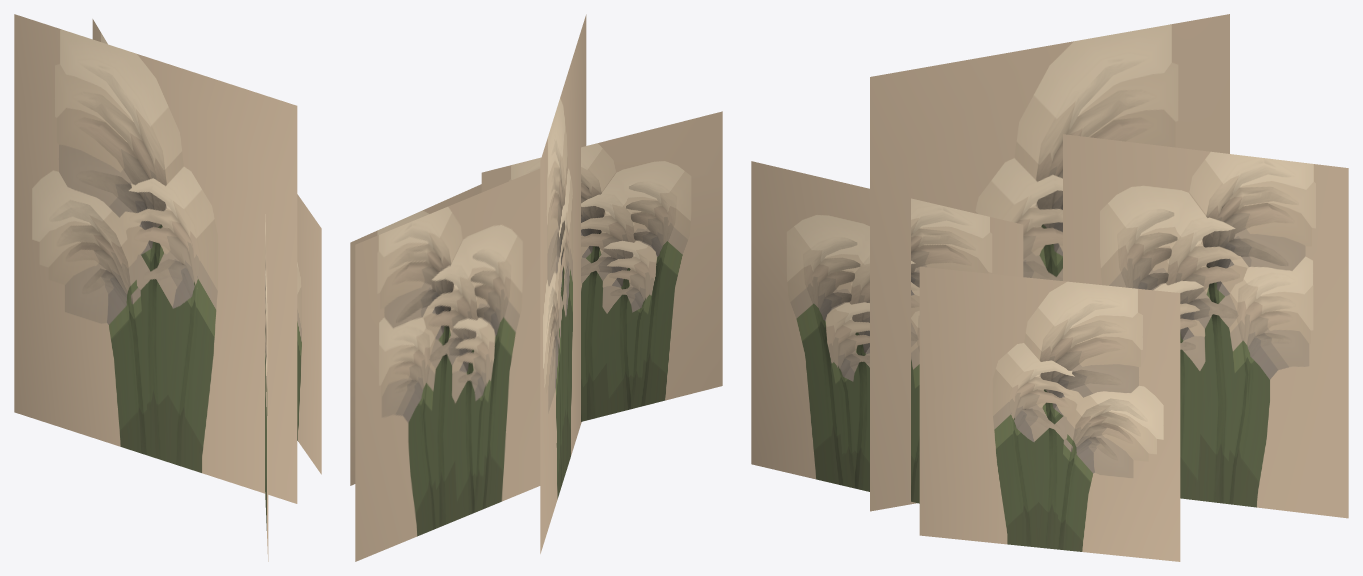
The model's file is SM_Env_Grass_Tall_Clump_02.fbx.
The picture shows the model from 3 angles, left to right: view 1: azimuth 30°, elevation 25°; view 2: azimuth 150°, elevation 25°; view 3: azimuth 270°, elevation 25°; orthographic projection. The views are drawn at different scales.
Visible parts, largest first — view 1: SM_Env_Grass_Tall_Clump_02_LOD0; view 2: SM_Env_Grass_Tall_Clump_02_LOD0; view 3: SM_Env_Grass_Tall_Clump_02_LOD0.
Part boxes in pixels (left/top/right/bottom): SM_Env_Grass_Tall_Clump_02_LOD0: left=14, top=14, right=321, bottom=561; SM_Env_Grass_Tall_Clump_02_LOD0: left=350, top=14, right=722, bottom=561; SM_Env_Grass_Tall_Clump_02_LOD0: left=751, top=14, right=1348, bottom=561.
Size of what is drawn, in the model's own units: 62.12 by 110 by 137.
